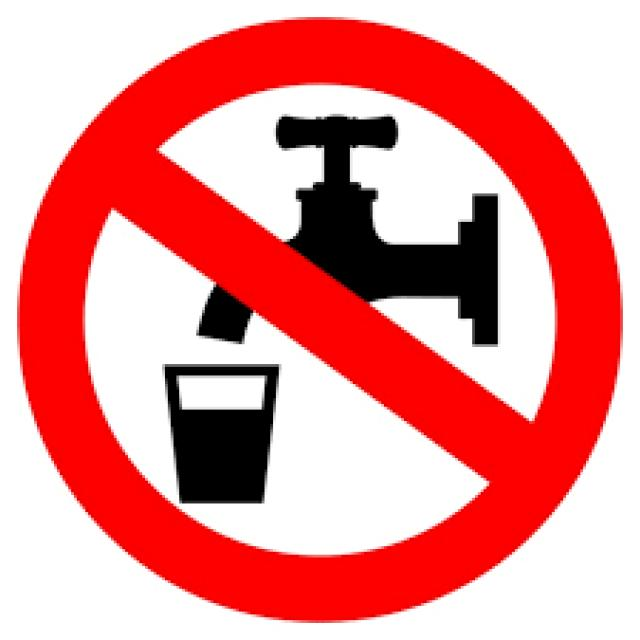drinking-prohibited: (12, 29, 634, 617)
